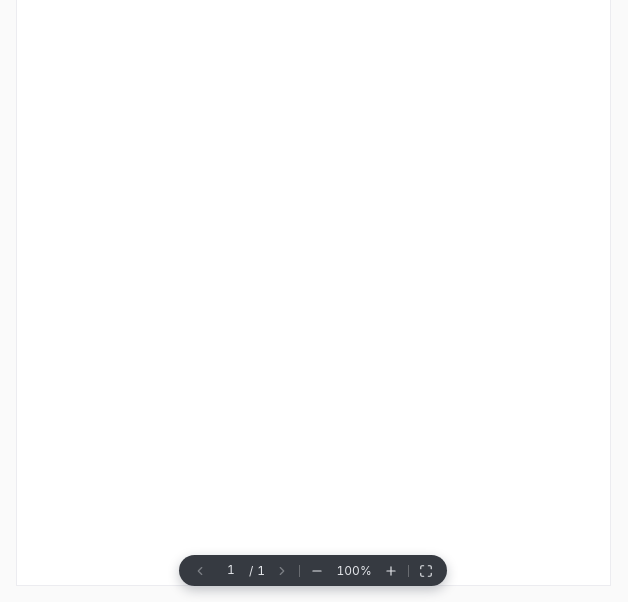
Scenario: PdfViewer › 축소 버튼 클릭 시 scale이 25% 감소한다
(page scrolled)
expect the field with test id "pdf-page-input" holds "1": met, box [217,562,245,579]
Click the button with test id "pdf-zoom-out": (317, 570) [310,564,324,578]
(page scrolled)
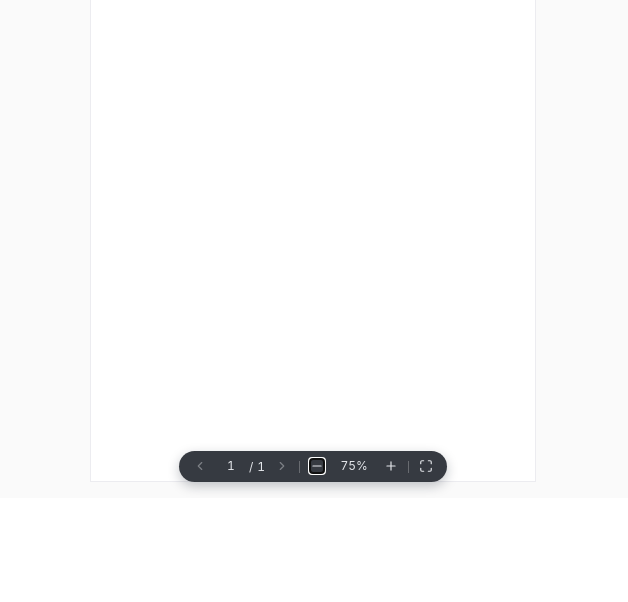
expect the text with test id "pdf-scale" reads "75%": met, box [340,458,368,473]
